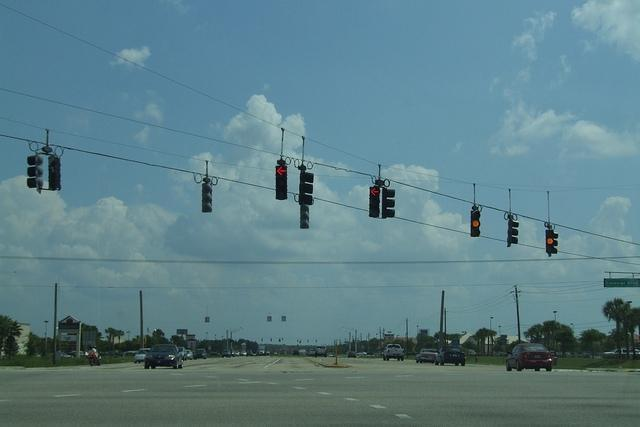car: (506, 342, 554, 372), (144, 344, 183, 369), (436, 346, 466, 366), (414, 348, 437, 363), (134, 348, 152, 363), (194, 348, 207, 358), (221, 349, 231, 358), (346, 350, 356, 358), (185, 350, 192, 360)
motorcycle: (87, 350, 98, 366)
truck: (381, 344, 405, 362), (259, 346, 265, 356)
